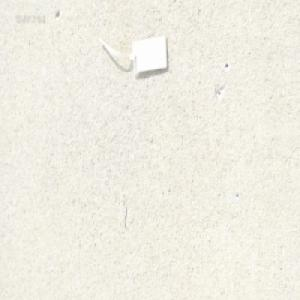LuggageTag: (97, 31, 170, 78)
